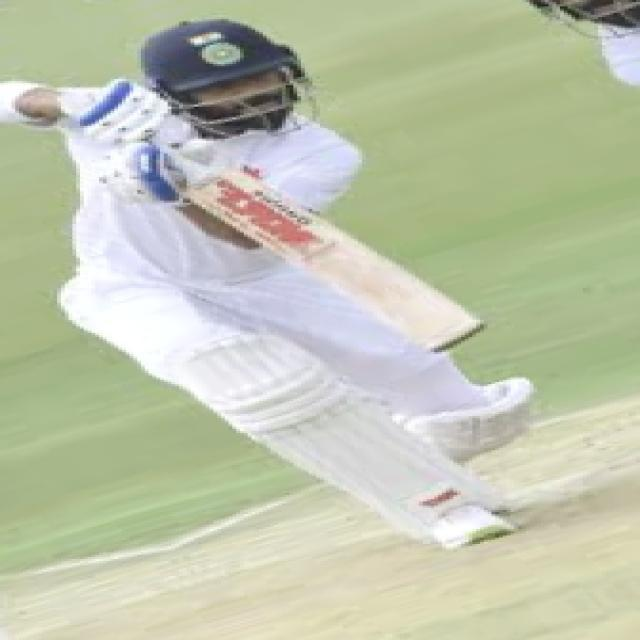bat: (184, 174, 500, 363)
toe: (433, 326, 491, 352)
